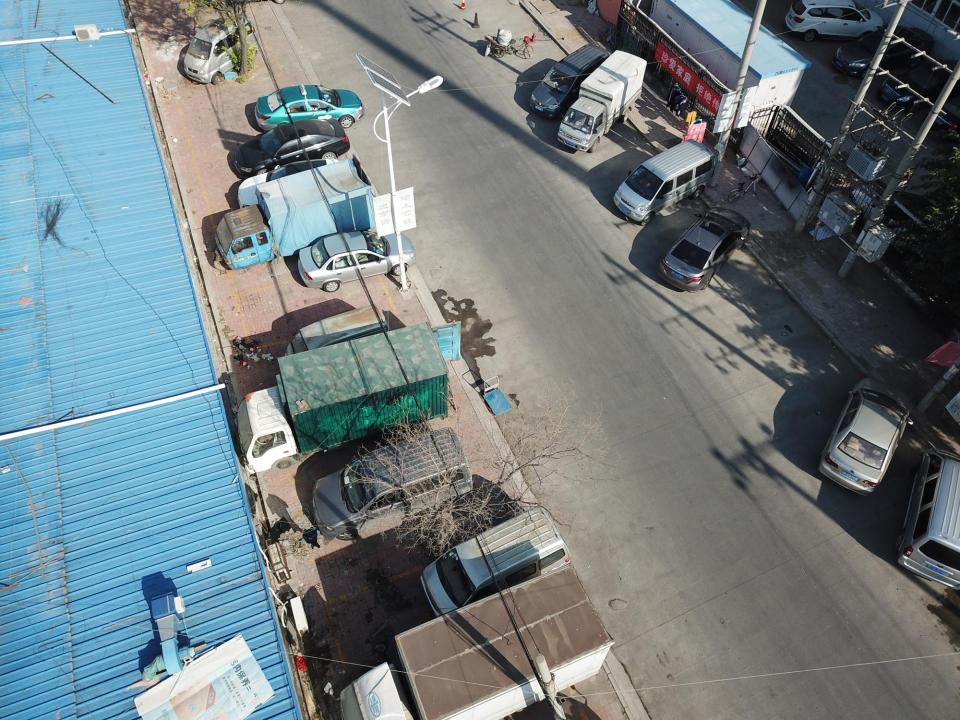car: (819, 378, 913, 496), (657, 206, 752, 293), (297, 230, 415, 293), (234, 118, 350, 179), (237, 159, 344, 214), (254, 84, 365, 133)
truck: (325, 563, 616, 720), (238, 322, 448, 472), (214, 154, 372, 269), (557, 50, 647, 154)
van: (312, 427, 472, 540), (418, 508, 572, 615), (895, 448, 960, 591), (613, 138, 715, 225), (286, 304, 388, 372), (530, 43, 610, 116), (183, 18, 258, 84)
